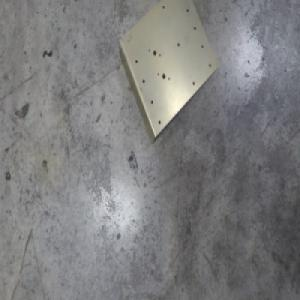MetalSheet: (117, 0, 219, 146)
